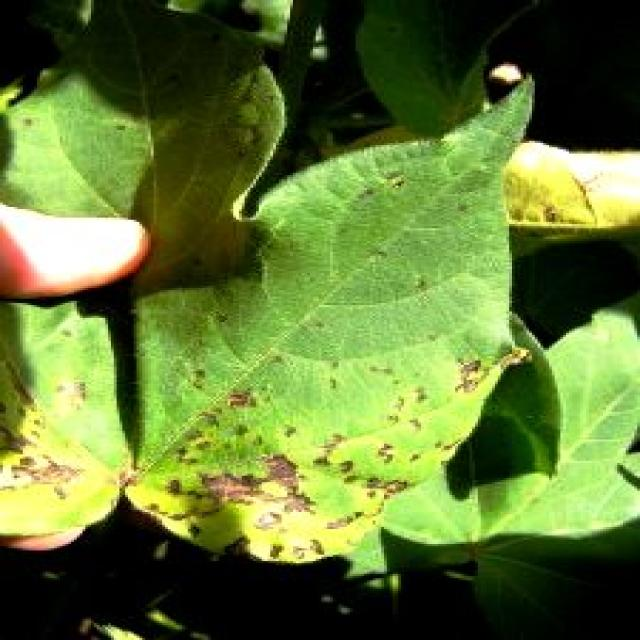Bacterial Blight: (6, 400, 376, 538)
